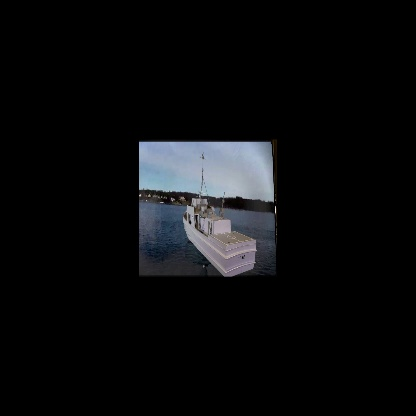YP689: (183, 152, 256, 276)
